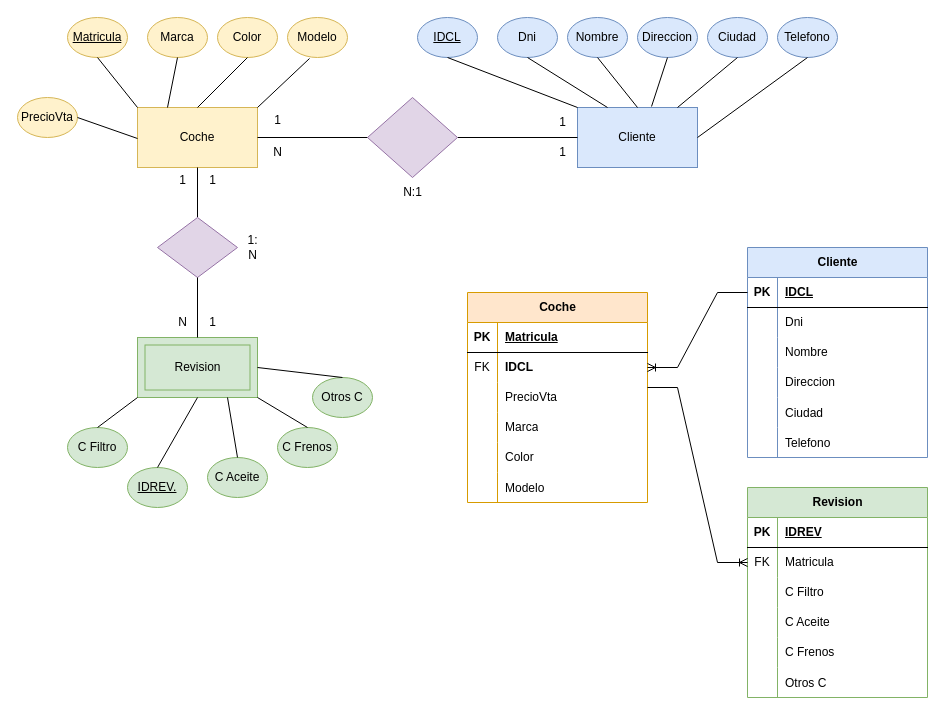
Image size: 945x715. Some labels were removed from this diagram. Here are the shapes that lost their labels. From the top down, the centre of each, then its label:
At (412,137): "adquirido".
At (197,247): "REALIZA".
